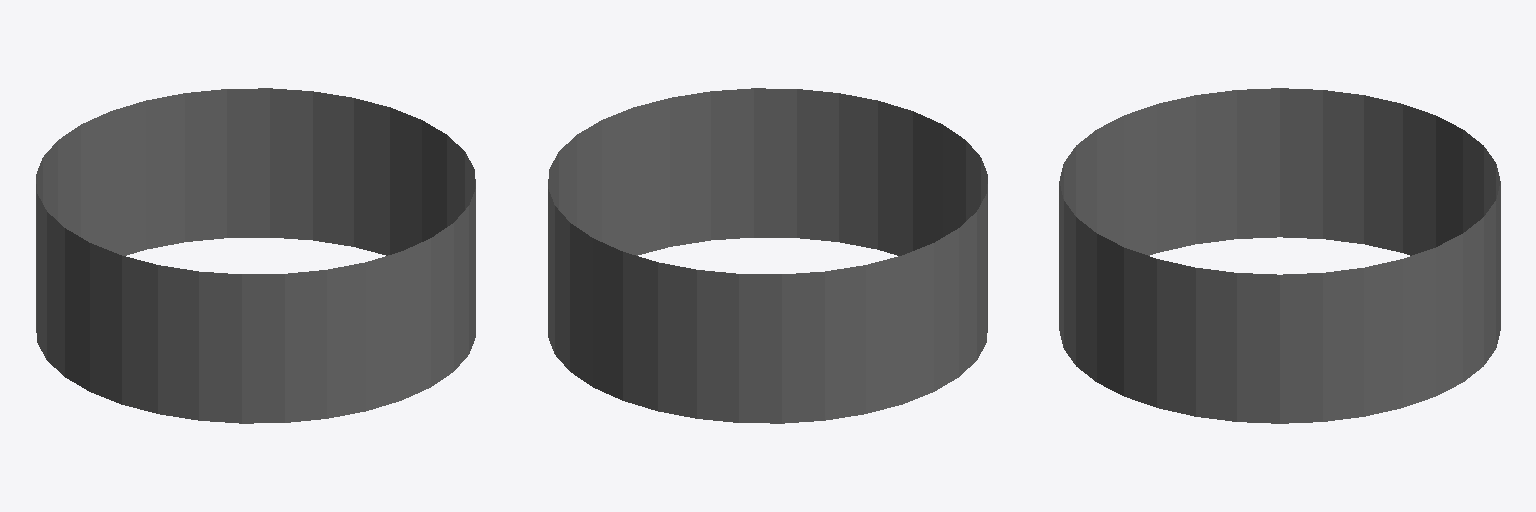
The model's file is pano.obj.
The picture shows the model from 3 angles: view 1: azimuth 30°, elevation 25°; view 2: azimuth 150°, elevation 25°; view 3: azimuth 270°, elevation 25°; orthographic projection.
Size of the model in its own units: 2 by 0.7462 by 2.